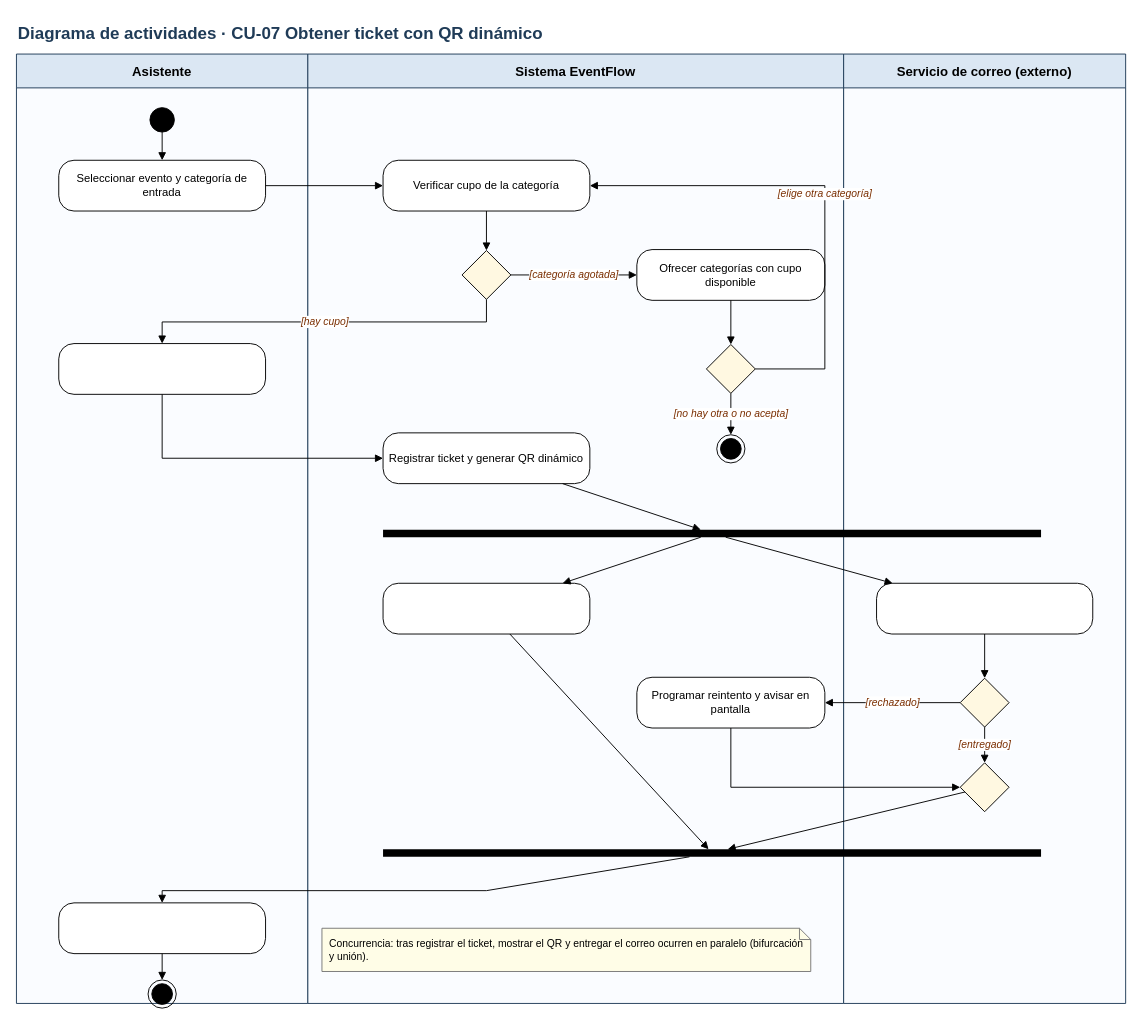
Some shapes in this 1142 by 1025 pixel diagram are drawn without their labels. Each missing label, with the box of its shape:
Confirmar datos y aceptar condiciones del evento: (58, 343, 266, 394)
Entregar ticket en PDF al correo del asistente: (876, 582, 1093, 634)
Mostrar QR dinámico en la cuenta del asistente: (382, 582, 590, 634)
Ver y descargar su ticket: (58, 902, 266, 954)
